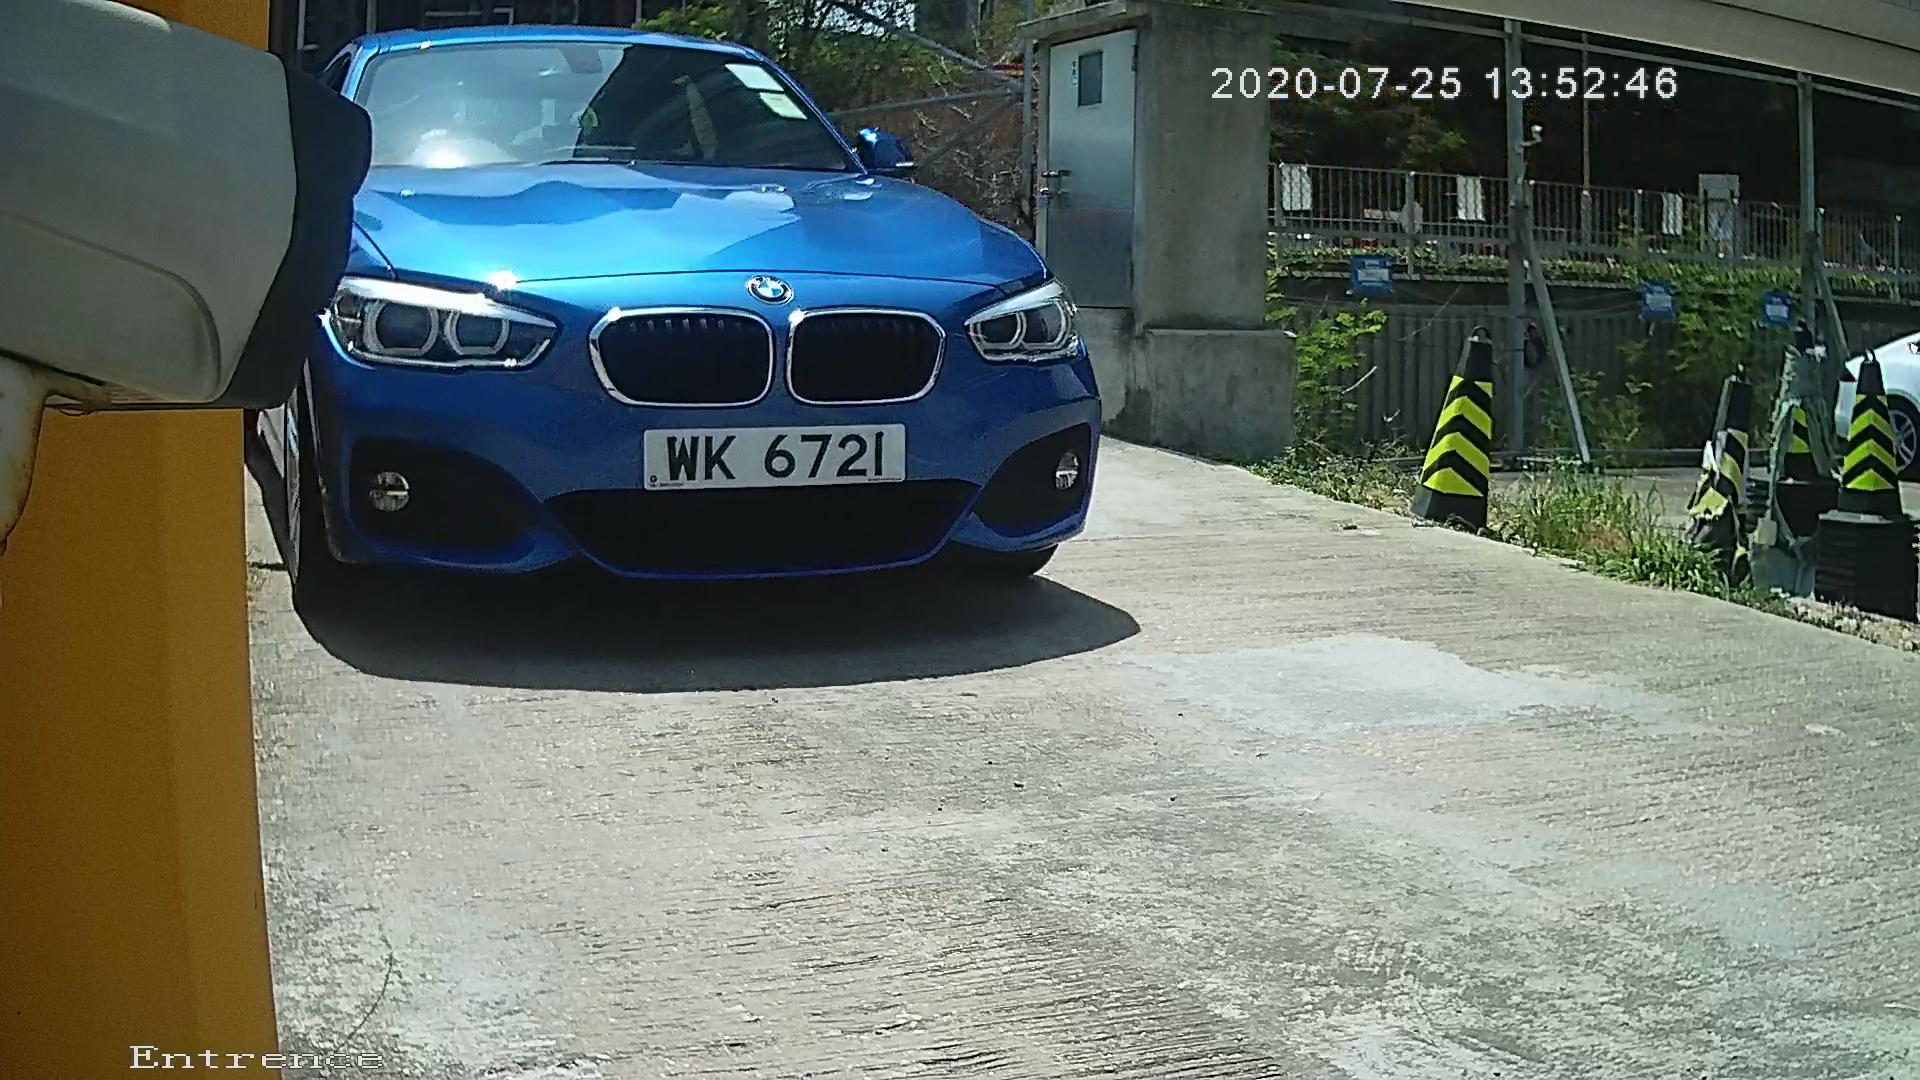Car: (112, 1, 1175, 666)
License Plate: (626, 415, 935, 502)
